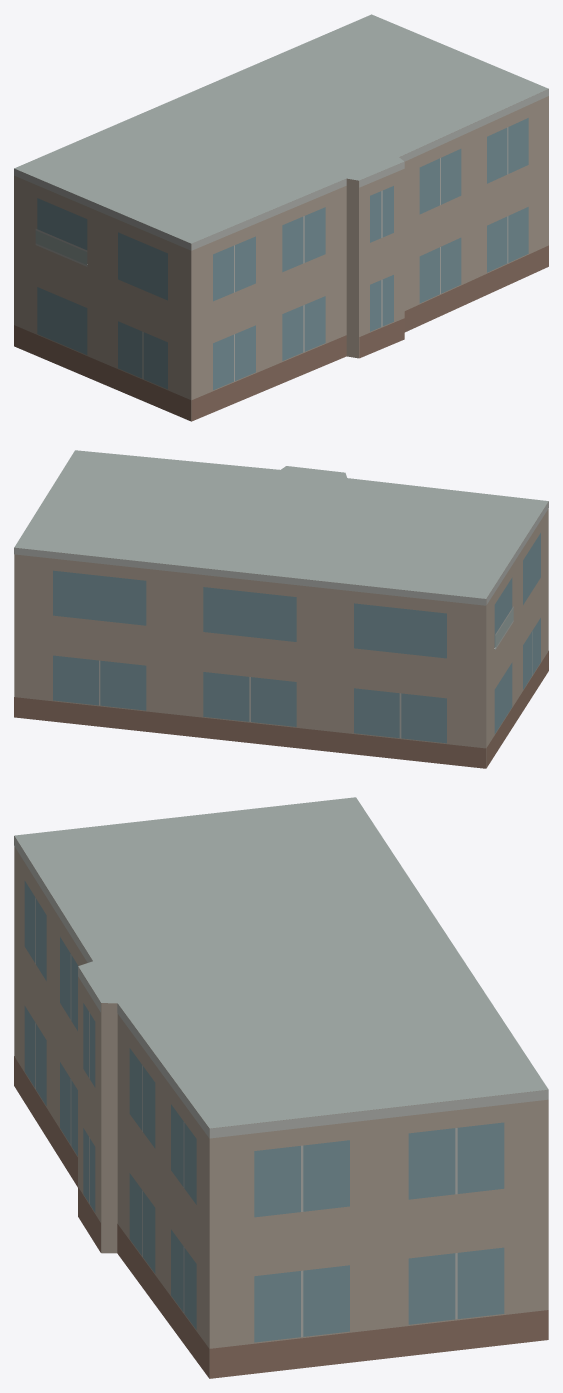
Rendered from survey-upis-32614483.glb.
The picture shows the model from 3 angles, top to bottom: view 1: azimuth 30°, elevation 25°; view 2: azimuth 150°, elevation 25°; view 3: azimuth 270°, elevation 25°; orthographic projection. The views are drawn at different scales.
Parts seen in each view (by area): view 1: survey-upis-32614483.tmp; view 2: survey-upis-32614483.tmp; view 3: survey-upis-32614483.tmp.
Boxes of the visible parts, bbox=[...] form: survey-upis-32614483.tmp: bbox=[14, 14, 548, 421]; survey-upis-32614483.tmp: bbox=[14, 450, 548, 768]; survey-upis-32614483.tmp: bbox=[14, 797, 548, 1378].
Size of the model in its own units: 17.34 by 6.1 by 11.82.
